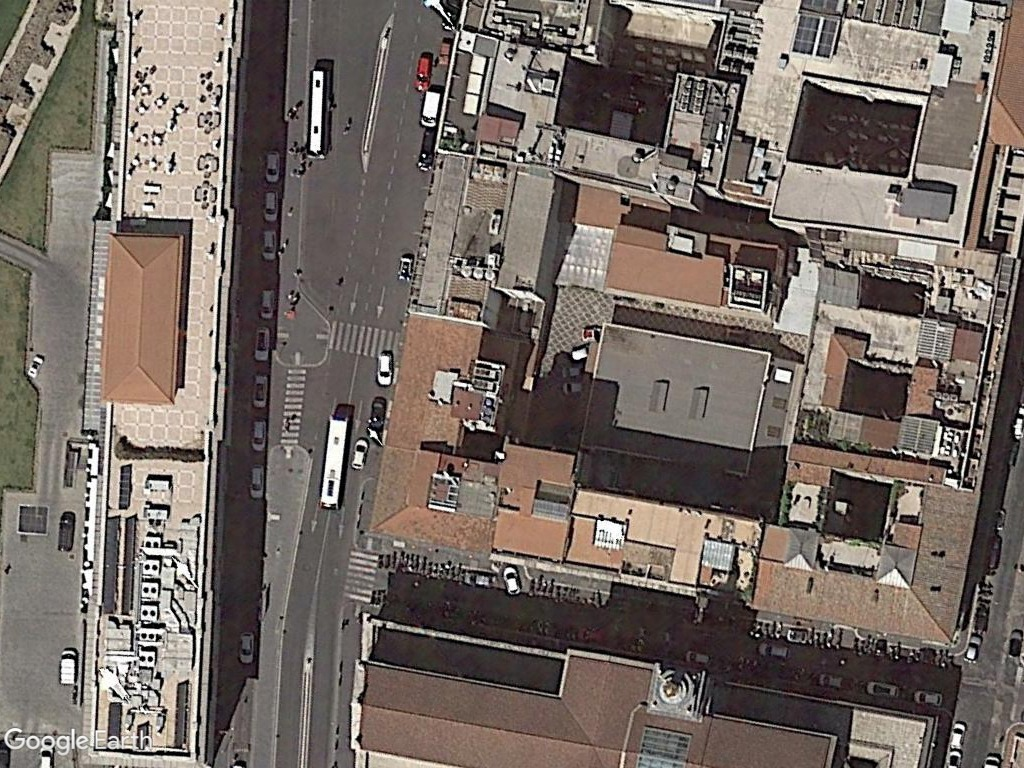bus: (316, 407, 354, 514), (305, 65, 331, 166)
car: (754, 638, 796, 661), (499, 562, 524, 600), (373, 350, 396, 390), (910, 684, 948, 708), (863, 678, 904, 700), (251, 324, 273, 364), (247, 463, 269, 503), (413, 50, 432, 96), (250, 372, 271, 413), (814, 669, 853, 691), (262, 148, 283, 187), (249, 416, 270, 454), (237, 628, 257, 667), (260, 227, 281, 264), (257, 285, 278, 322), (367, 395, 387, 433), (948, 718, 968, 753), (964, 629, 982, 666), (260, 190, 280, 223), (682, 647, 715, 667), (350, 435, 369, 469), (25, 350, 45, 382)
other: (396, 251, 414, 283)
van: (418, 86, 444, 127), (56, 647, 78, 689), (57, 508, 76, 555)
